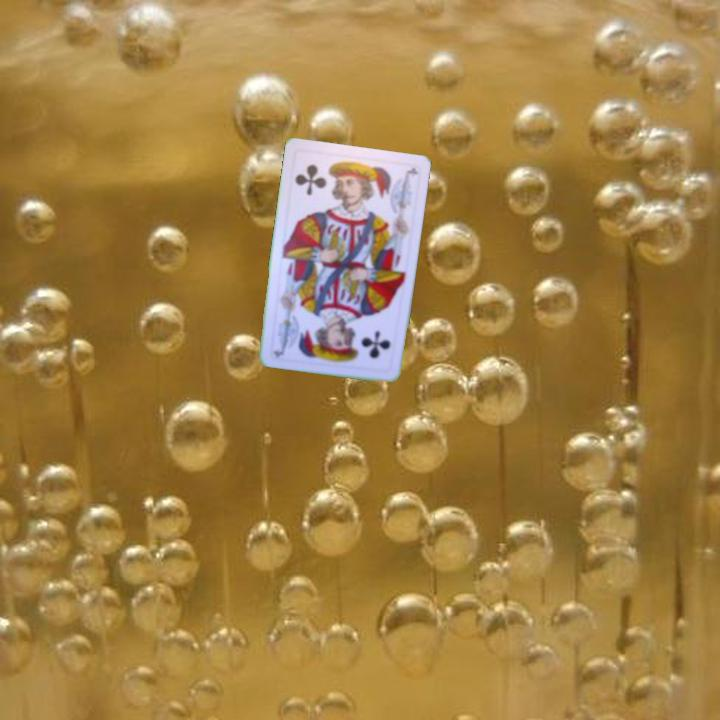c_j.png: (326, 308, 400, 374), (286, 147, 360, 213)
